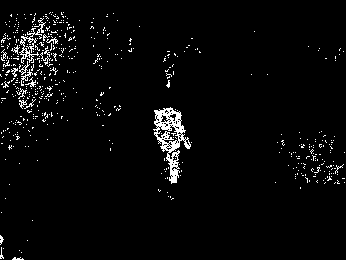person: (153, 106, 192, 186)
